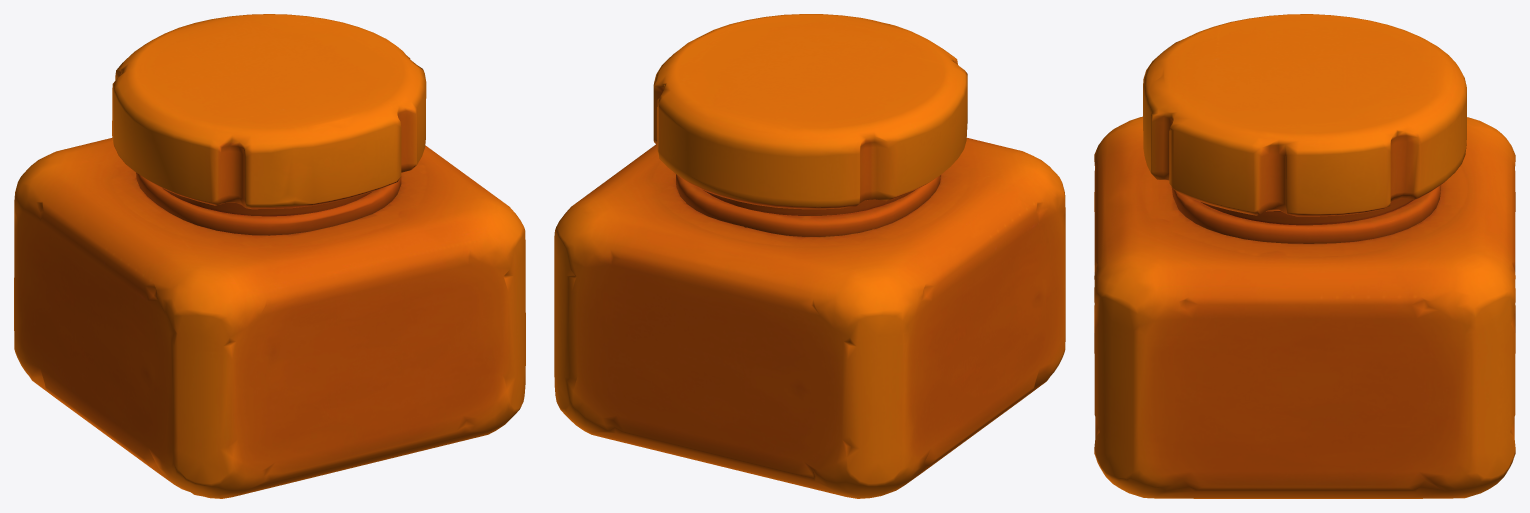
Rendered from brass_inkwell.glb.
3 views of the same model, side by side, from view 1: azimuth 30°, elevation 25°; view 2: azimuth 150°, elevation 25°; view 3: azimuth 270°, elevation 25° (orthographic). The views are drawn at different scales.
Parts seen in each view (by area): view 1: tripo_node_bc68a720-4815-40d7-a80b-e54863fc4794; view 2: tripo_node_bc68a720-4815-40d7-a80b-e54863fc4794; view 3: tripo_node_bc68a720-4815-40d7-a80b-e54863fc4794.
Part boxes in pixels (x1,y1,x2,y2): tripo_node_bc68a720-4815-40d7-a80b-e54863fc4794: (14,14,525,498); tripo_node_bc68a720-4815-40d7-a80b-e54863fc4794: (554,14,1065,498); tripo_node_bc68a720-4815-40d7-a80b-e54863fc4794: (1094,14,1515,498).
Bounding box in the file's own units: 0.9995 × 0.9077 × 0.9888.
1 material, 1 textured.
